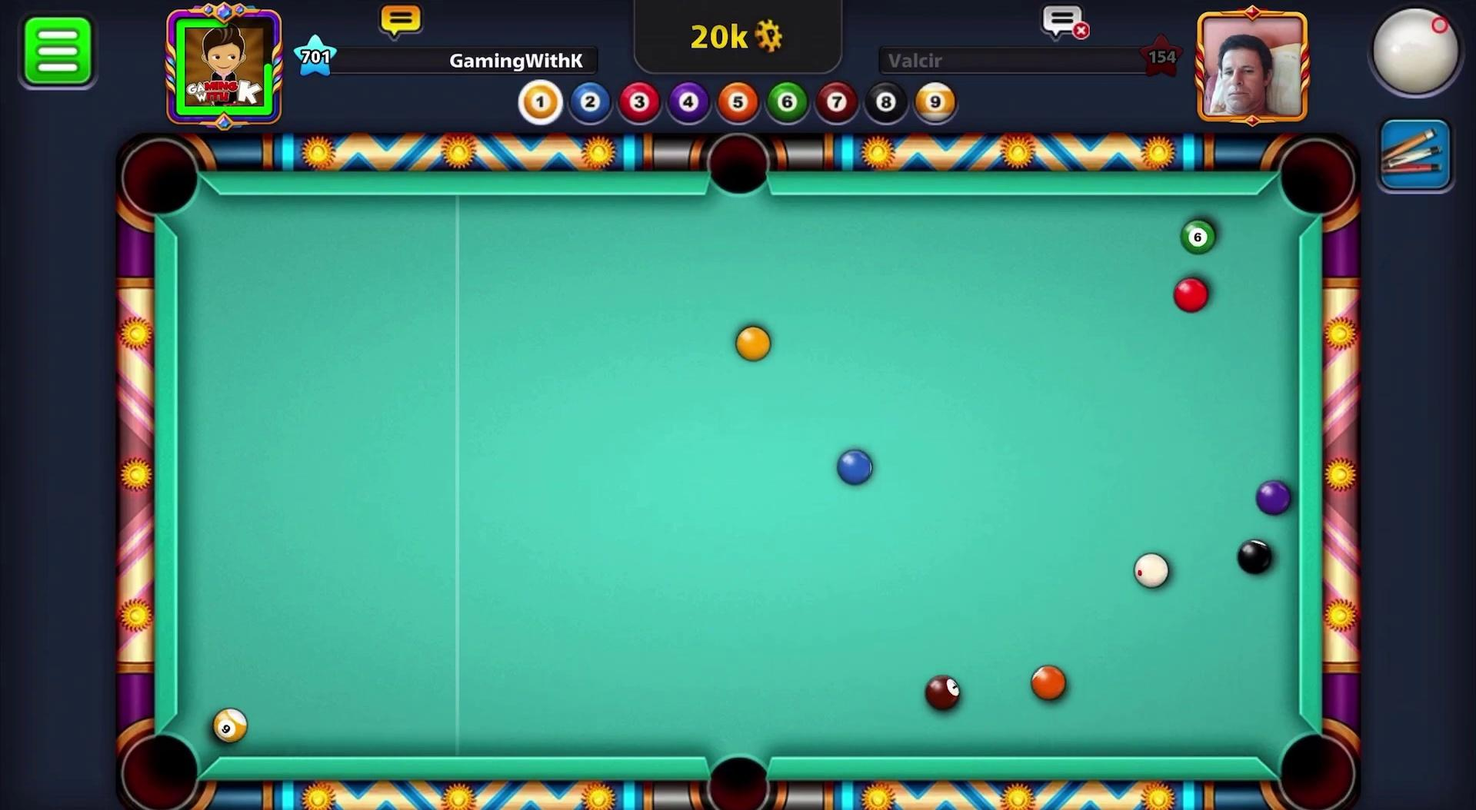Ball: (828, 441, 882, 493), (729, 319, 776, 368), (205, 702, 254, 748), (1171, 274, 1213, 318), (919, 672, 965, 712), (1177, 215, 1220, 257), (1028, 661, 1072, 701), (1234, 537, 1277, 576), (1256, 475, 1292, 515)
Hole: (107, 128, 212, 231), (110, 713, 218, 809), (1267, 130, 1364, 236), (1266, 715, 1363, 809), (696, 123, 781, 207), (685, 742, 788, 809)
Play_Area: (178, 196, 1302, 762)
Spin: (1342, 0, 1474, 115)
White: (1129, 549, 1174, 589)
